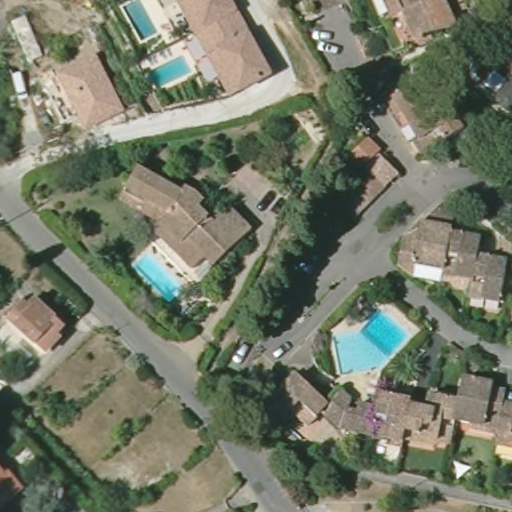pool: (325, 298, 418, 373), (127, 245, 190, 307), (143, 53, 201, 94), (115, 1, 157, 45)
